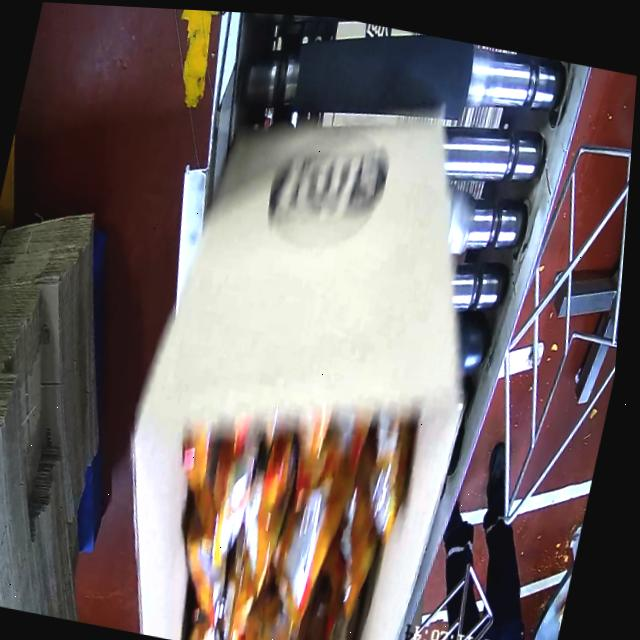FRENCH_CHEESE: (149, 372, 429, 640)
